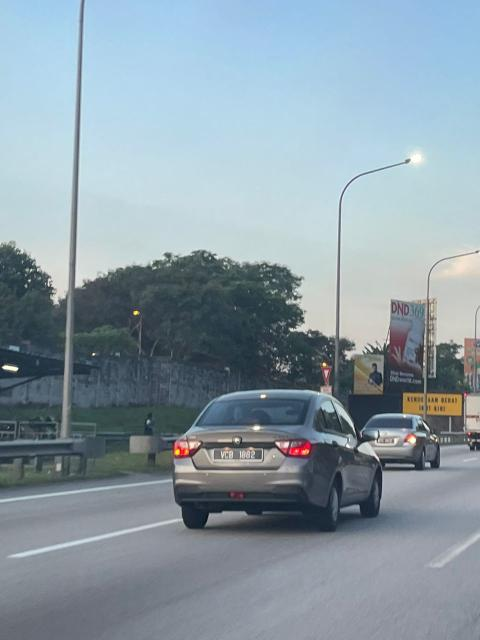License_Plate: (211, 445, 260, 469)
car: (171, 386, 385, 530), (365, 412, 441, 473)
